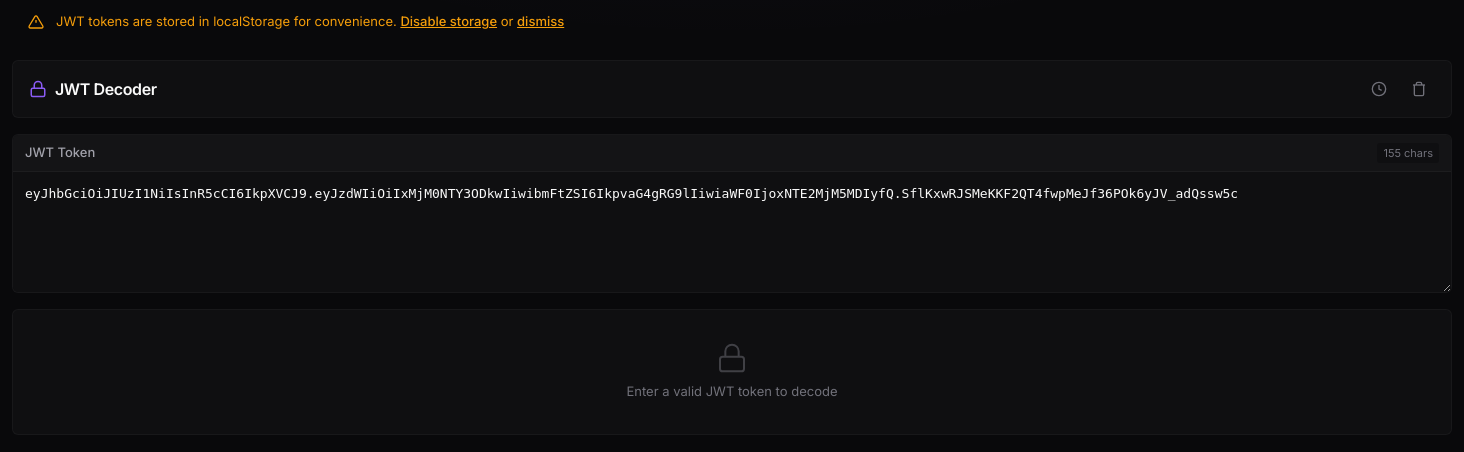
Test case: JwtTool › should show error for invalid JWT format
Replace the text in the text box with placeholder "Paste JWT token" with "invalid.token": (732, 232) [13,172,1451,292]
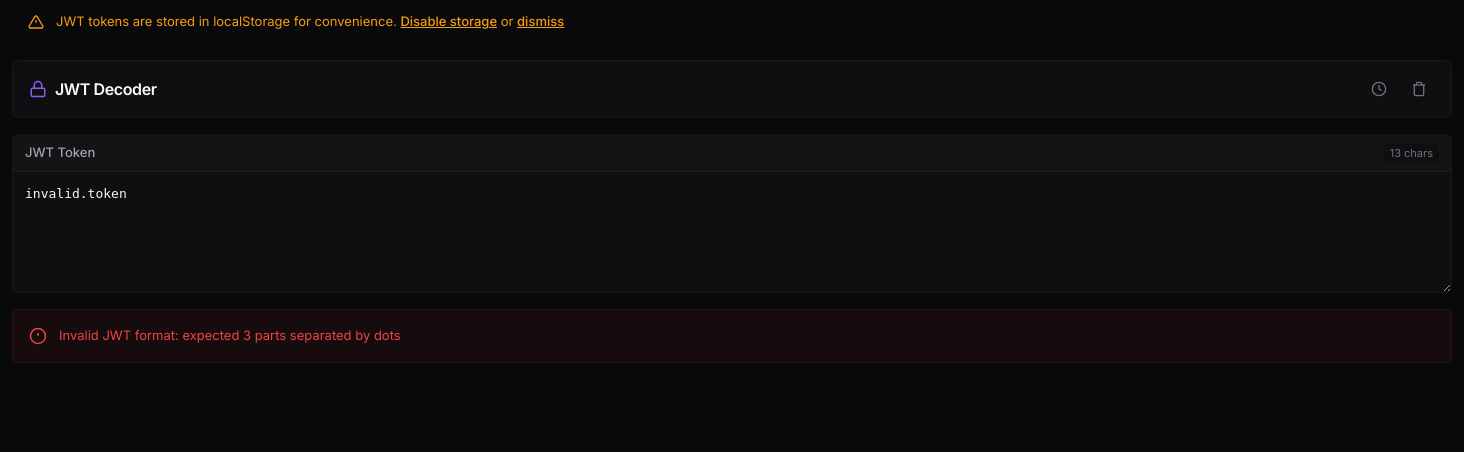
Expected: the text "Invalid JWT format: expected 3 parts separated by dots" is shown, [59,326,401,346]
